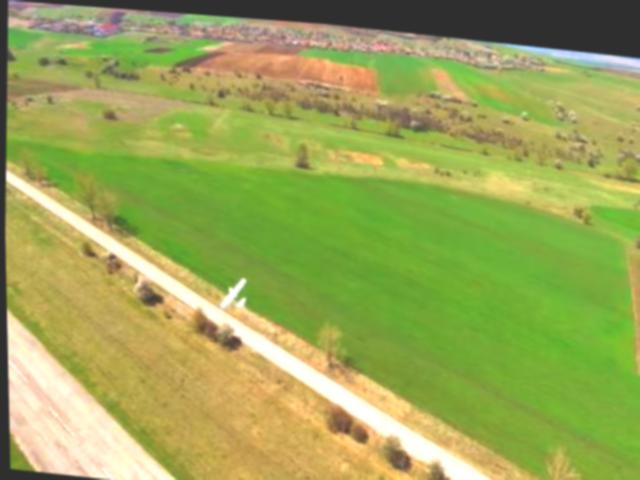uav: (213, 264, 253, 313)
